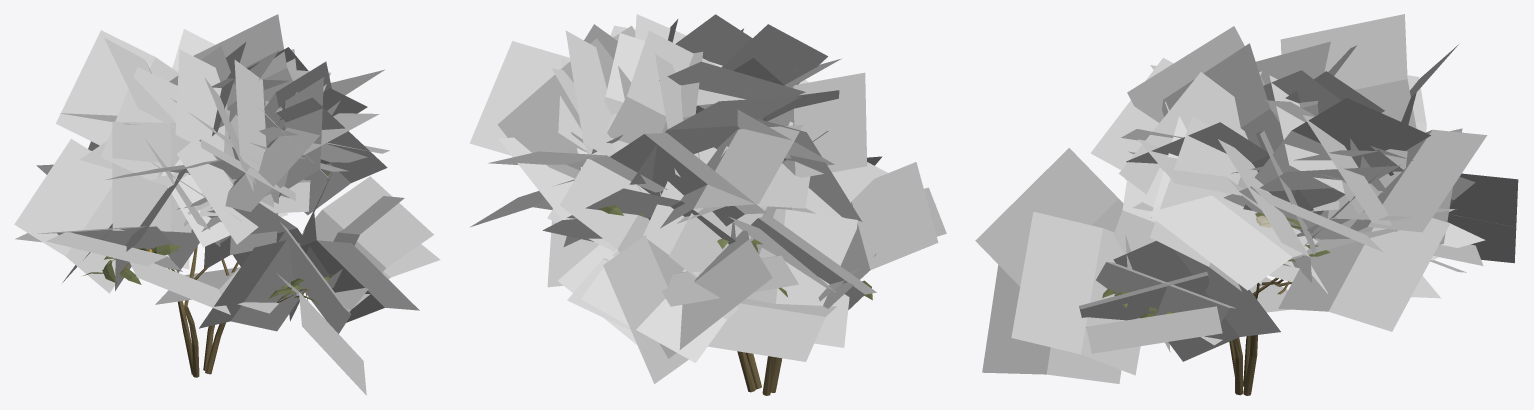
Rendered from Ciste_Jeune_LOD1.fbx.
The picture shows the model from 3 angles, left to right: view 1: azimuth 30°, elevation 25°; view 2: azimuth 150°, elevation 25°; view 3: azimuth 270°, elevation 25°; orthographic projection. The views are drawn at different scales.
Parts seen in each view (by area): view 1: Ciste_Jeune_LOD1; view 2: Ciste_Jeune_LOD1; view 3: Ciste_Jeune_LOD1.
Part boxes in pixels (left/top/right/bottom): Ciste_Jeune_LOD1: left=14, top=14, right=440, bottom=395; Ciste_Jeune_LOD1: left=469, top=14, right=946, bottom=395; Ciste_Jeune_LOD1: left=975, top=14, right=1518, bottom=395.
Bounding box in the file's own units: 105 × 86.76 × 116.
